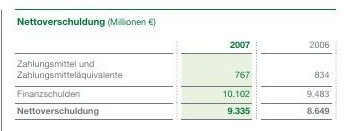table: (0, 0, 349, 131)
